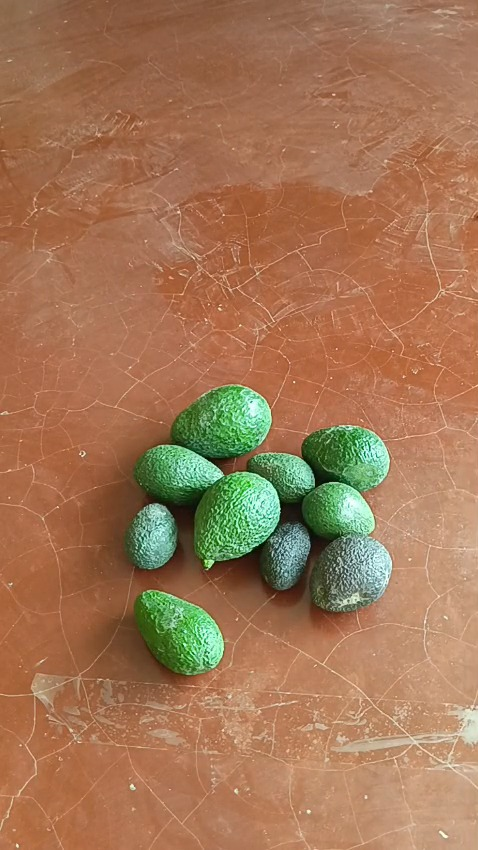Primera: (193, 471, 282, 569), (170, 384, 272, 458), (300, 424, 390, 491)
Segunda: (133, 589, 224, 674), (308, 535, 392, 612), (133, 445, 224, 506)
Tercera: (301, 481, 376, 541), (258, 518, 312, 591), (123, 501, 179, 570), (247, 451, 317, 503)
